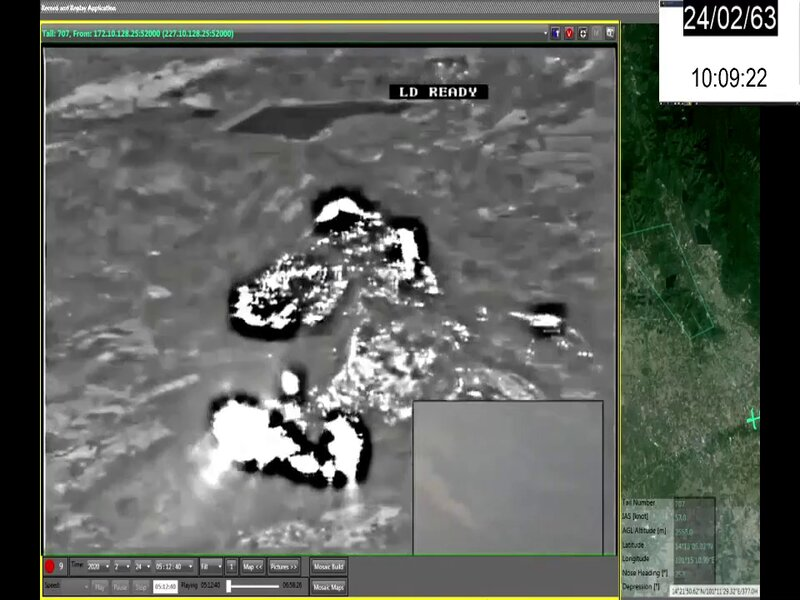Fire: (205, 184, 412, 495)
